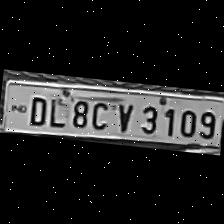0: (176, 104, 199, 138)
1: (159, 104, 178, 136)
3: (135, 100, 160, 134)
8: (68, 94, 90, 129)
9: (194, 106, 218, 140)
C: (86, 95, 112, 130)
D: (24, 92, 48, 126)
L: (45, 91, 69, 127)
Y: (111, 97, 136, 132)
